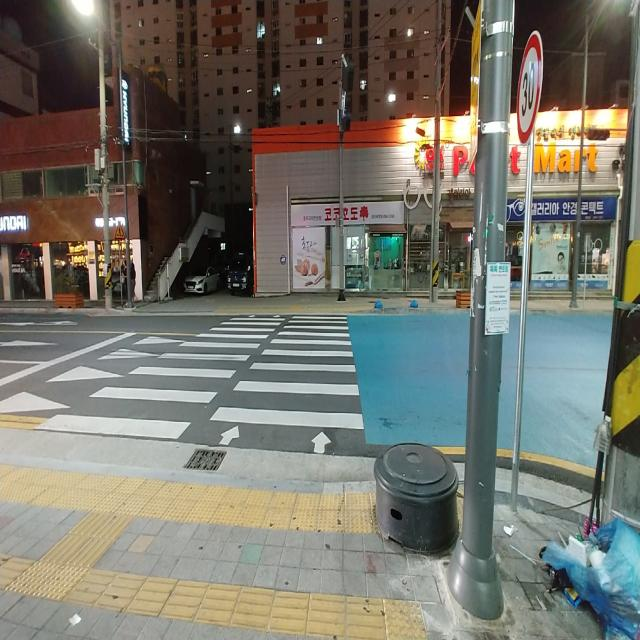횡단보도: (32, 312, 367, 458)
